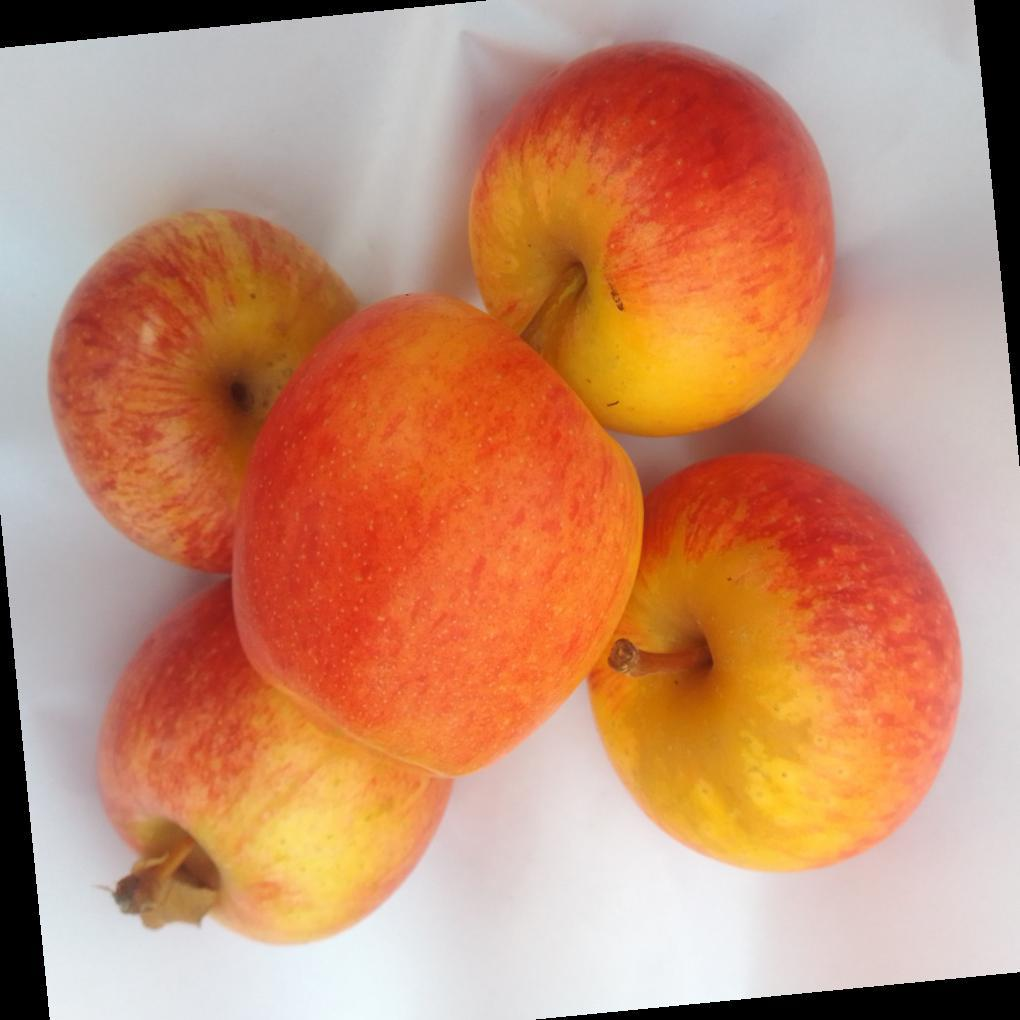FreshGuava: (45, 44, 963, 949)
